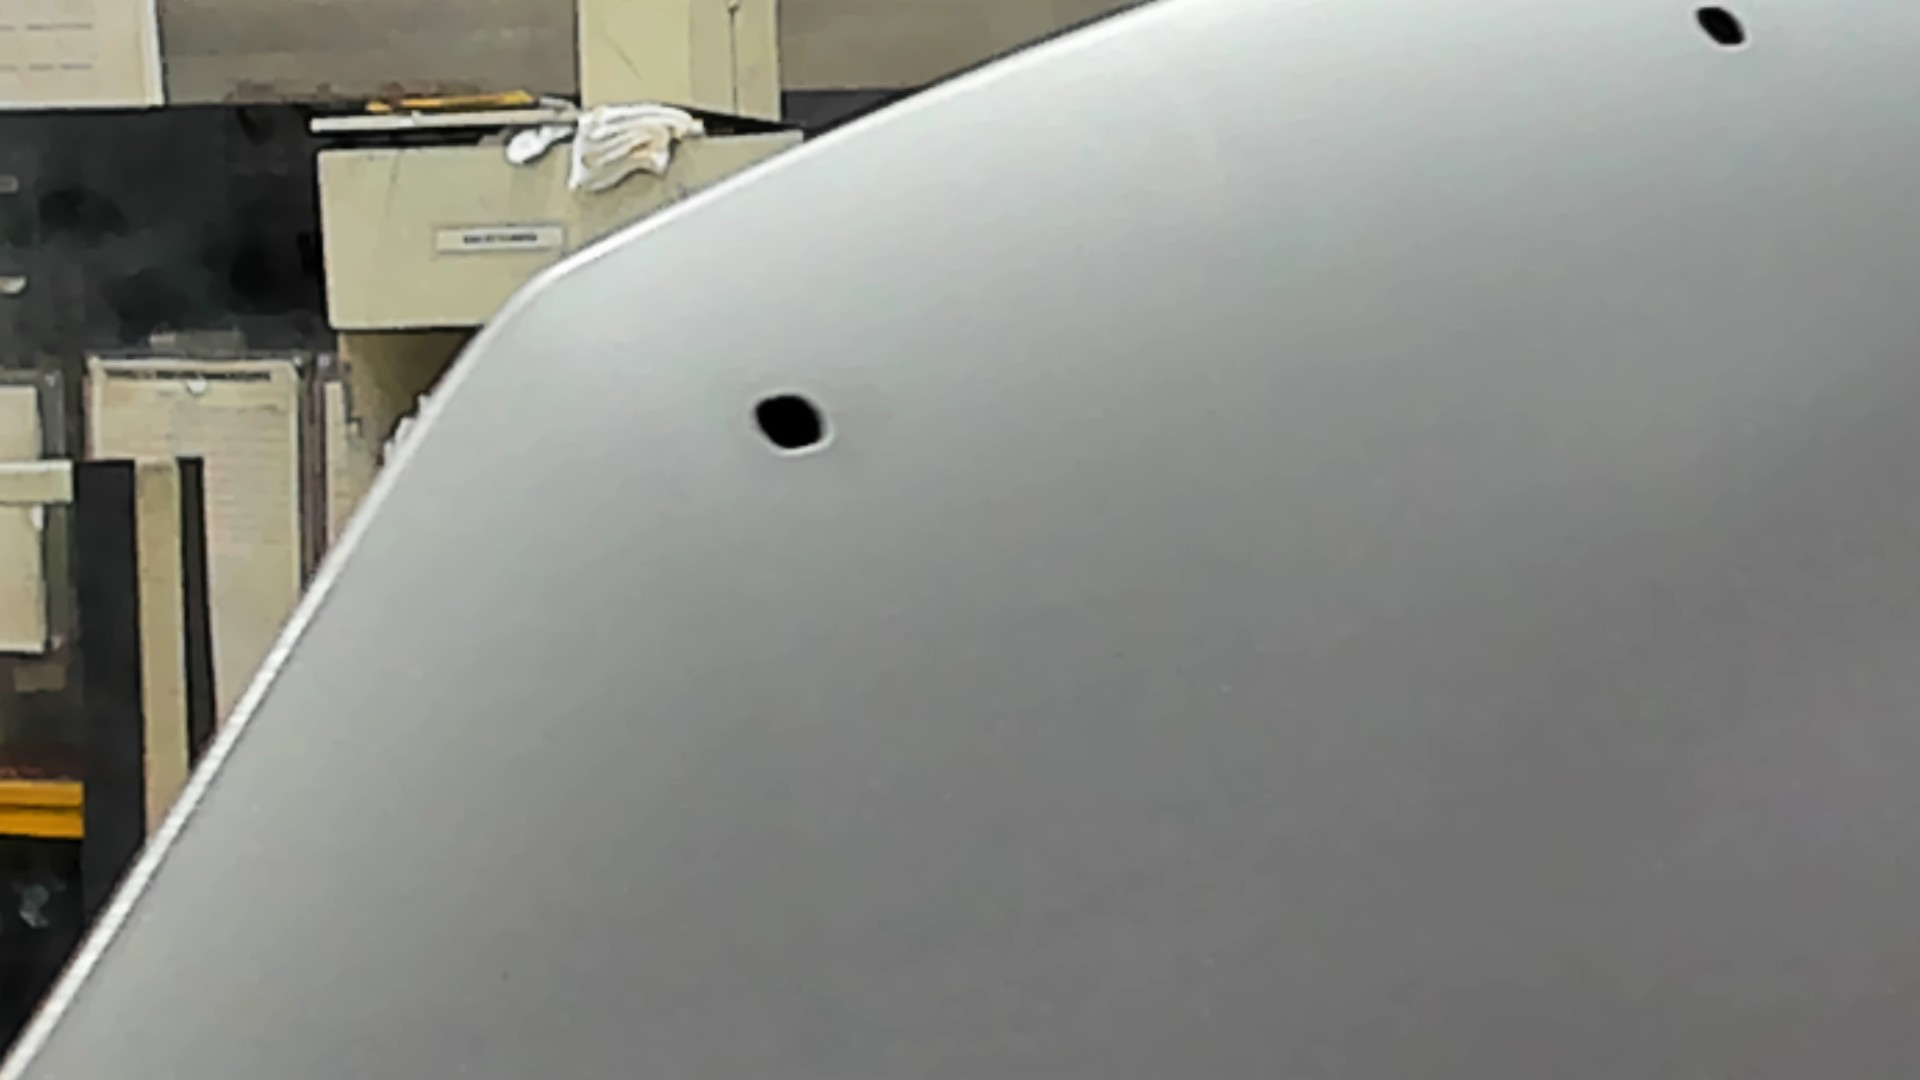Agujero: (741, 382, 839, 462), (1687, 1, 1756, 55)
